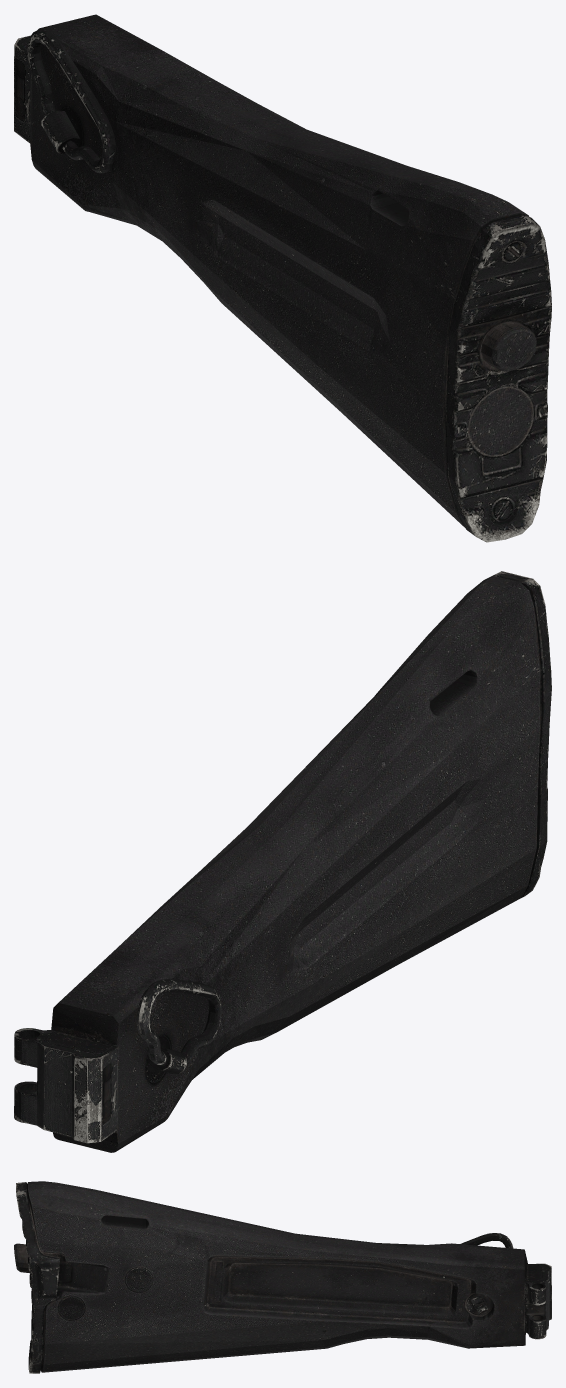
The picture shows the model from 3 angles, top to bottom: view 1: azimuth 30°, elevation 25°; view 2: azimuth 150°, elevation 25°; view 3: azimuth 270°, elevation 25°; orthographic projection. The views are drawn at different scales.
Parts seen in each view (by area): view 1: TW_5ac50c185acfc400163398d4_PZ_Import; view 2: TW_5ac50c185acfc400163398d4_PZ_Import; view 3: TW_5ac50c185acfc400163398d4_PZ_Import.
Boxes of the visible parts, x1,y1,x2,y2 form: TW_5ac50c185acfc400163398d4_PZ_Import: (14, 14, 551, 542); TW_5ac50c185acfc400163398d4_PZ_Import: (14, 571, 551, 1152); TW_5ac50c185acfc400163398d4_PZ_Import: (14, 1181, 551, 1373).
Bounding box in the file's own units: 0.0217 × 0.1511 × 0.0573.
1 material, 1 textured.
